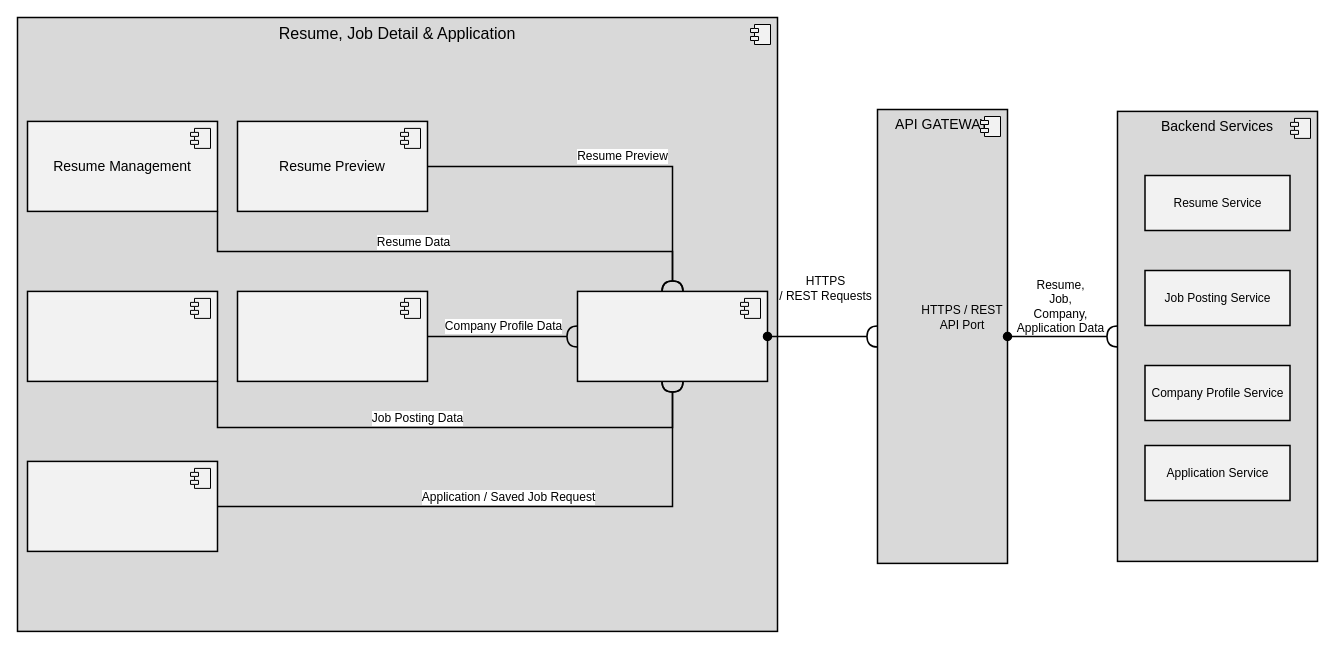
This 1336x650 diagram has some shape labels left out. The centre of each missing label's shape, as x and y in pixels:
Application & Saved Jobs: point 122,506
Client API Wrapper: point 672,336
Company Information Display: point 332,336
Job Detail Viewer: point 122,336
